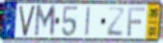5: (61, 5, 79, 38)
F: (127, 7, 147, 38)
I: (84, 5, 92, 38)
M: (33, 4, 57, 38)
V: (18, 5, 36, 38)
Z: (106, 6, 126, 38)
